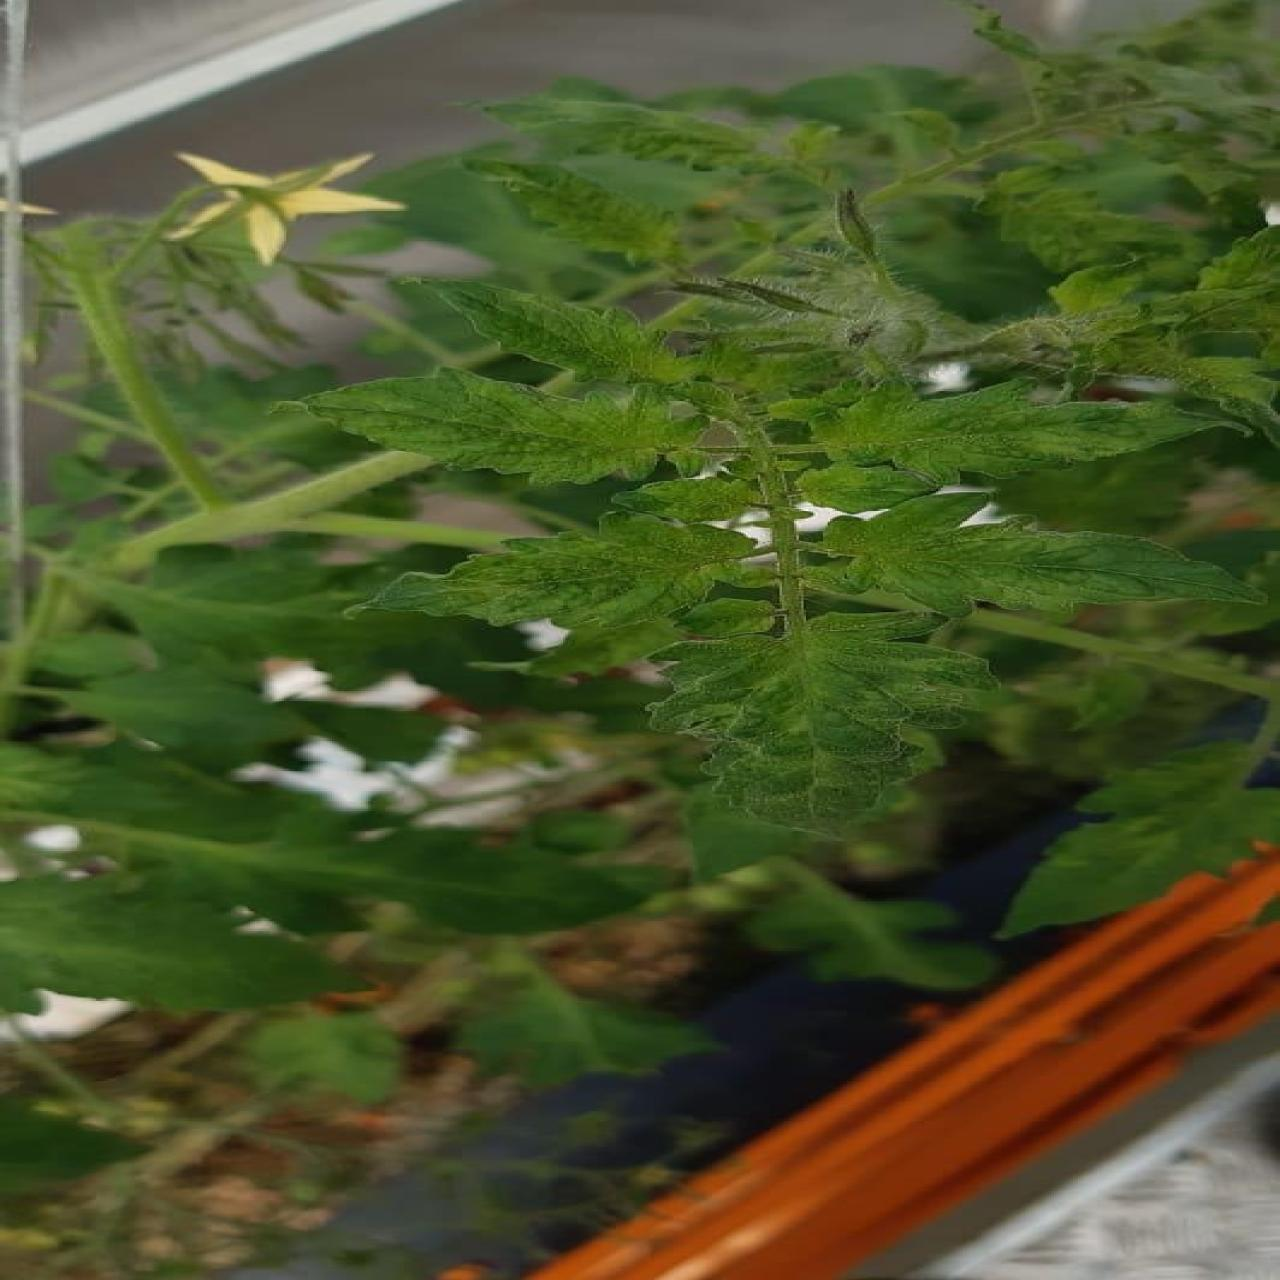T_L_R: (651, 614, 998, 831), (818, 493, 1262, 617), (304, 369, 704, 484), (367, 515, 749, 628), (813, 381, 1219, 481)
